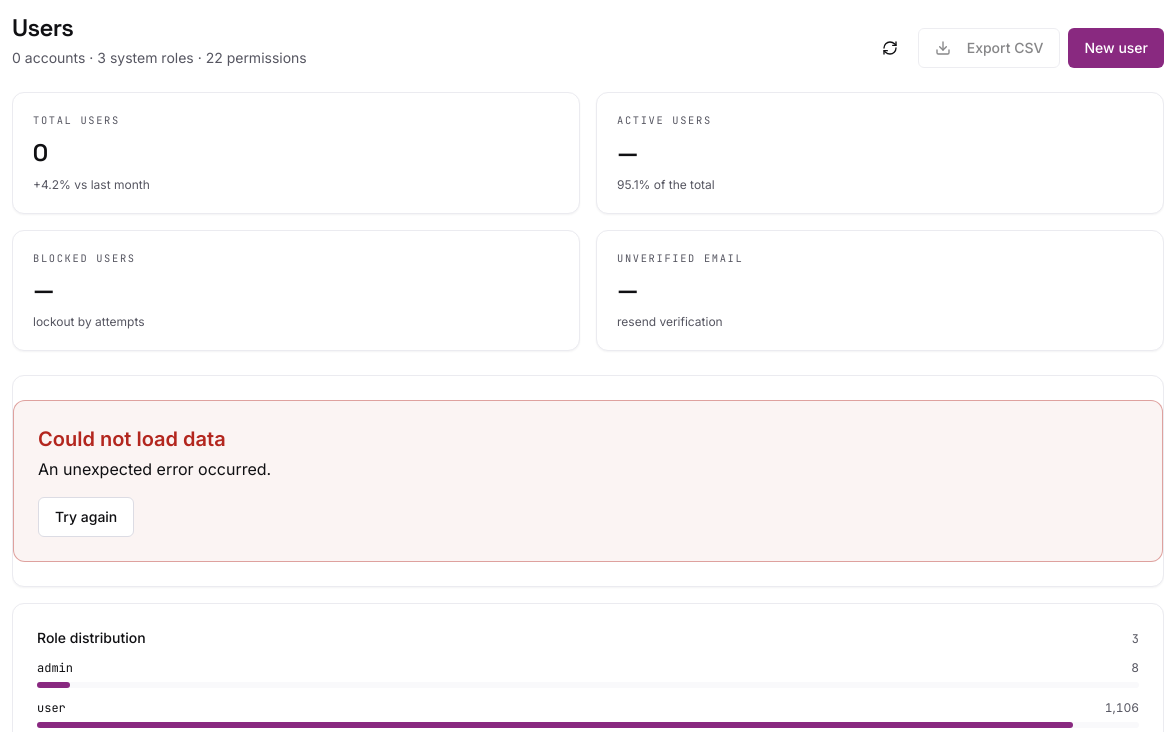
Test: users page — MSW › shows the error state and recovers with retry (S10)
Expected: the message shows "Could not load data", [38, 427, 226, 451]
Expected: the text "Ada Lovelace" is not shown
Click the button "Try again". click: click(86, 517)
box: [38, 497, 134, 537]
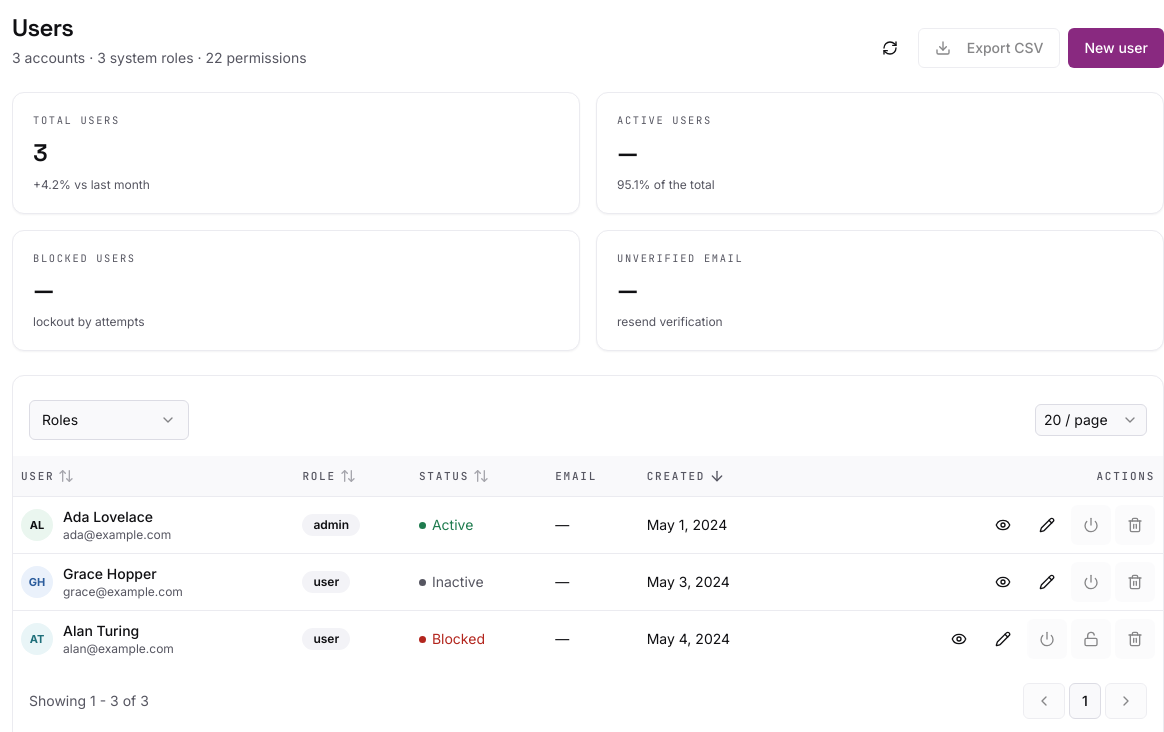
Now the text "Ada Lovelace" is shown, box [63, 508, 153, 525]
Now the text "Grace Hopper" is shown, box [63, 565, 157, 582]
